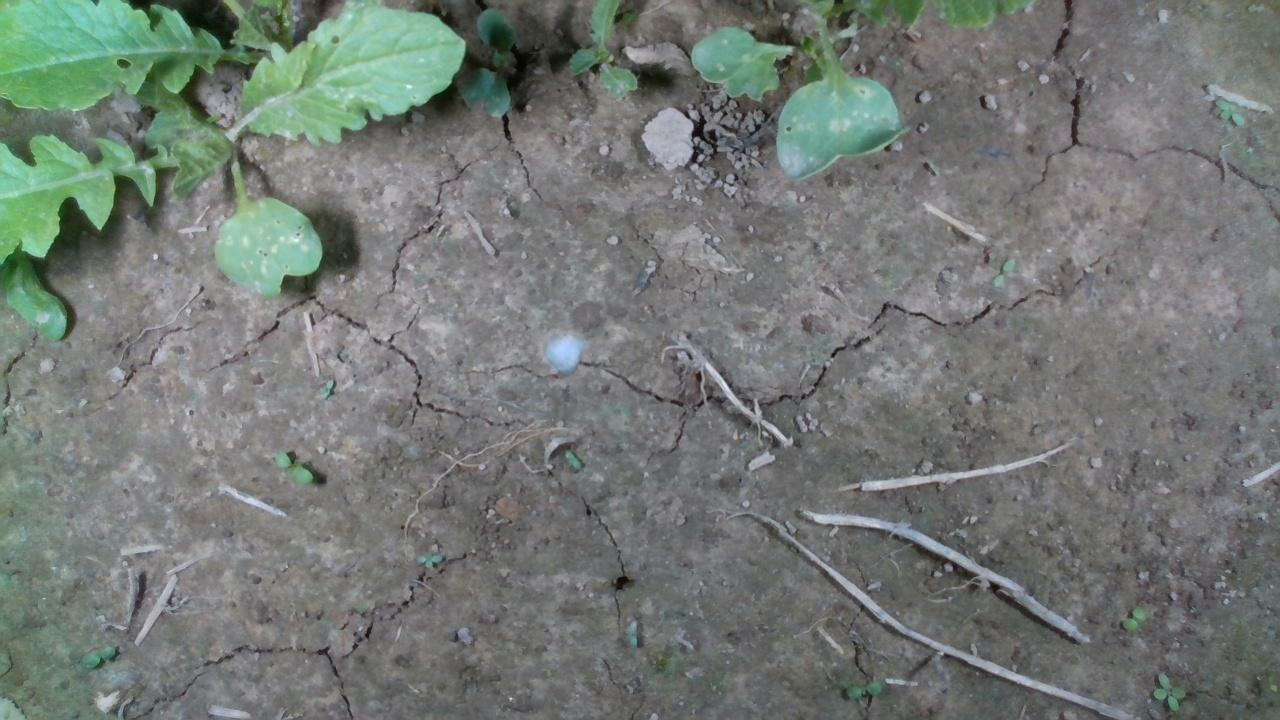weed: (270, 449, 315, 487), (1148, 670, 1186, 712), (842, 678, 880, 700), (1120, 602, 1146, 631)
